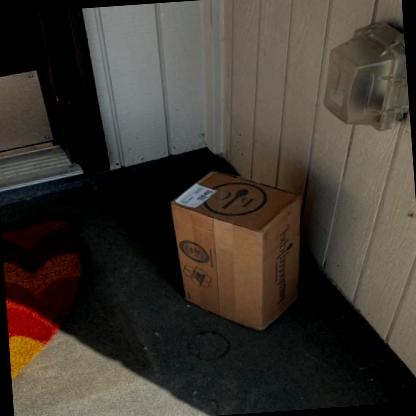box: (169, 171, 304, 332)
